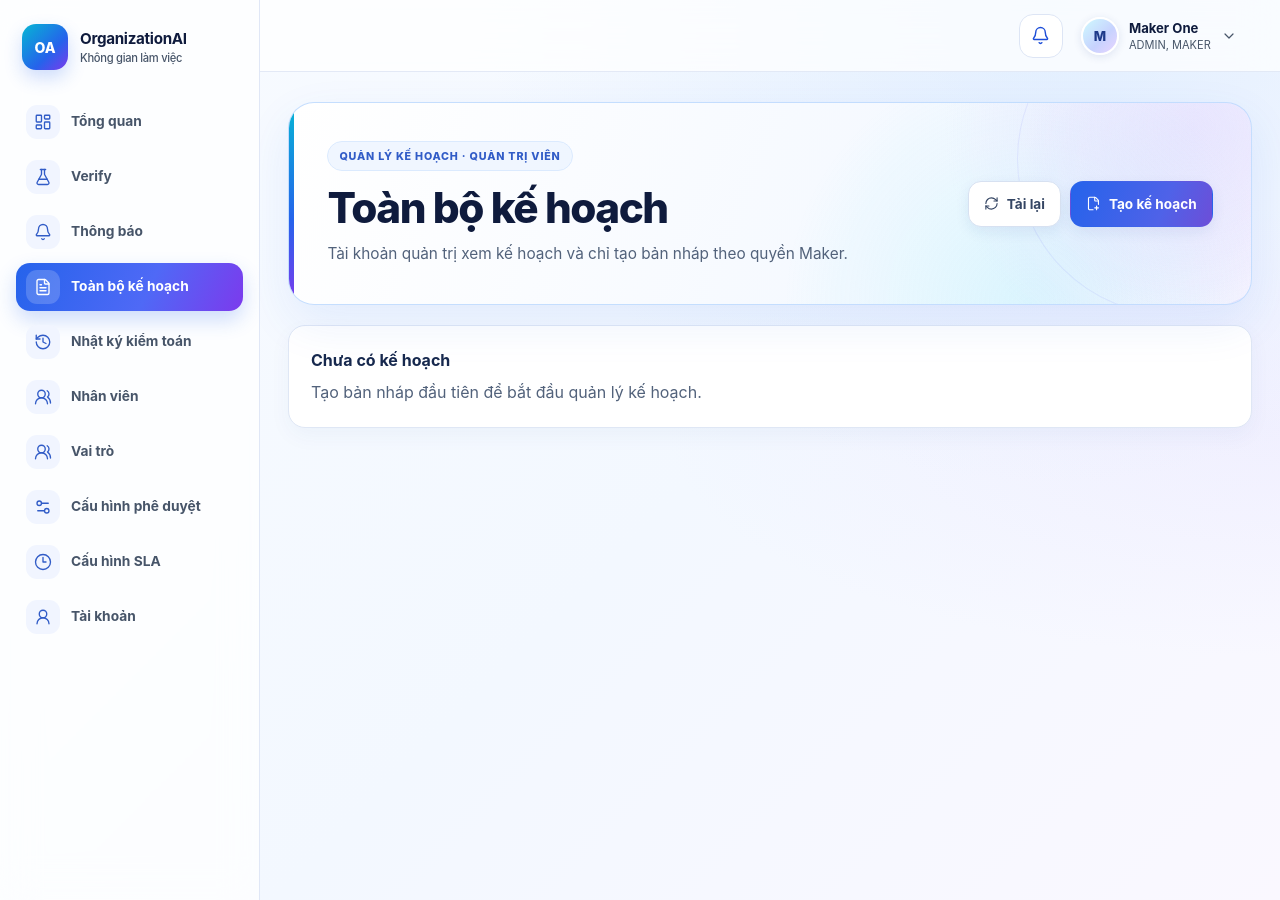
Test: Auth-first route entry › adds Maker actions for ADMIN+MAKER without granting Checker navigation
The width and height of the screenshot is (1280, 900).
Expected: the heading "Toàn bộ kế hoạch" is shown, [327,182,668,233]
Click the link "Tạo kế hoạch" at coordinates (1141, 204), box [1070,181,1213,227]
(page scrolled)
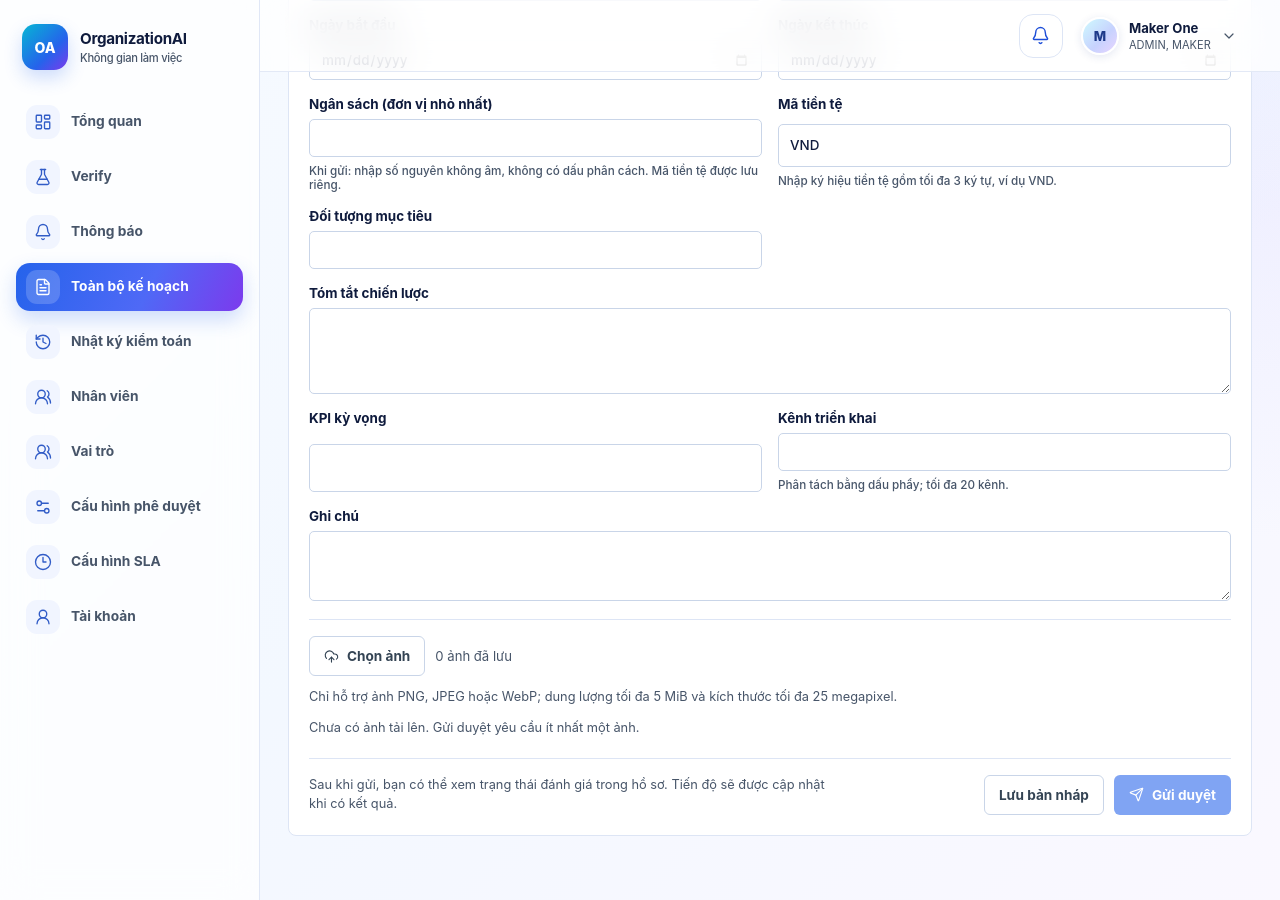
Now the button "Lưu bản nháp" is enabled, box [984,775,1104,815]
